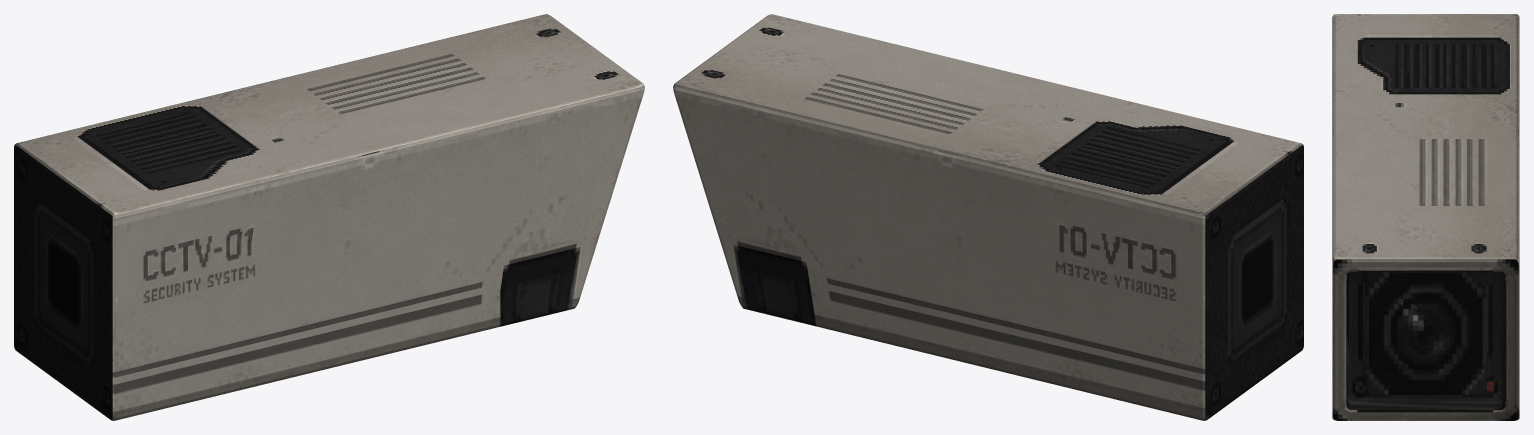
File: cctv.glb
3 views of the same model, side by side, from view 1: azimuth 30°, elevation 25°; view 2: azimuth 150°, elevation 25°; view 3: azimuth 270°, elevation 25° (orthographic). The views are drawn at different scales.
Parts seen in each view (by area): view 1: Cube; view 2: Cube; view 3: Cube.
Part boxes in pixels (x1,y1,x2,y2): Cube: [14, 14, 644, 420]; Cube: [673, 14, 1303, 420]; Cube: [1332, 14, 1519, 420].
Bounding box in the file's own units: 2.49 × 0.9234 × 0.8027.
1 material, 1 textured.
